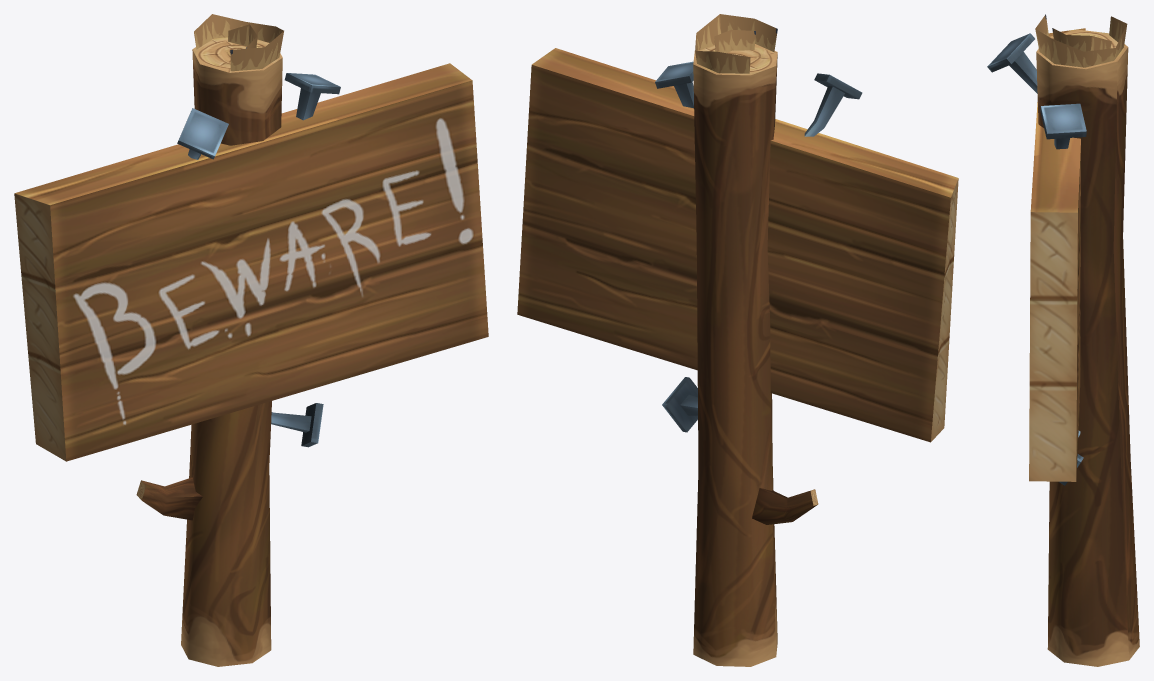
File: beware_sign.fbx
3 renders of one model, left to right at view 1: azimuth 30°, elevation 25°; view 2: azimuth 150°, elevation 25°; view 3: azimuth 270°, elevation 25°, orthographic. The views are drawn at different scales.
Parts seen in each view (by area): view 1: beware_sign; view 2: beware_sign; view 3: beware_sign.
Boxes of the visible parts, box(x1,y1,x2,y2) form: beware_sign: box(14, 14, 488, 666); beware_sign: box(517, 14, 958, 666); beware_sign: box(987, 14, 1139, 666).
Bounding box in the file's own units: 4.5 × 5.99 × 1.32.
